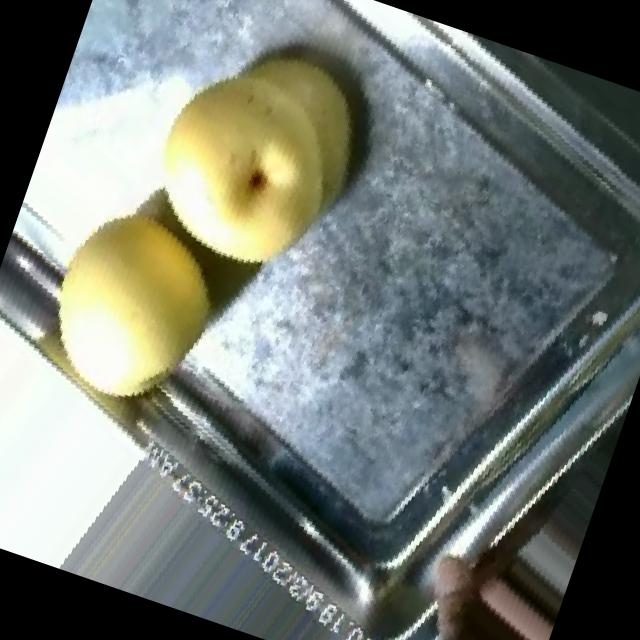Fruit: (104, 0, 414, 311), (0, 165, 267, 457)
